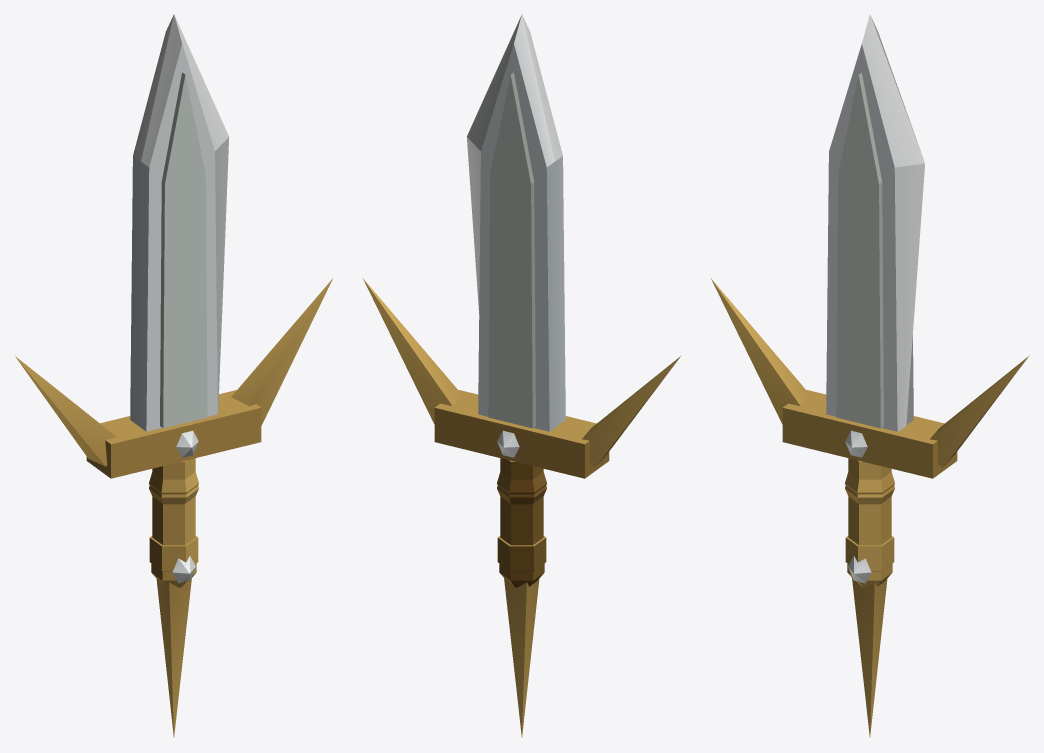
The model's file is rogue_daggers_4.gltf.
3 renders of one model, left to right at view 1: azimuth 30°, elevation 25°; view 2: azimuth 150°, elevation 25°; view 3: azimuth 330°, elevation 25°, orthographic.
Visible parts, largest first — view 1: rogue_daggers_4; view 2: rogue_daggers_4; view 3: rogue_daggers_4.
Boxes of the visible parts, <box> form: rogue_daggers_4: <box>14,14,332,737</box>; rogue_daggers_4: <box>363,14,681,737</box>; rogue_daggers_4: <box>711,14,1029,737</box>.
Size of the model in its own units: 0.68 by 1.48 by 0.1336.
Materials: 1 (1 with a texture image).
